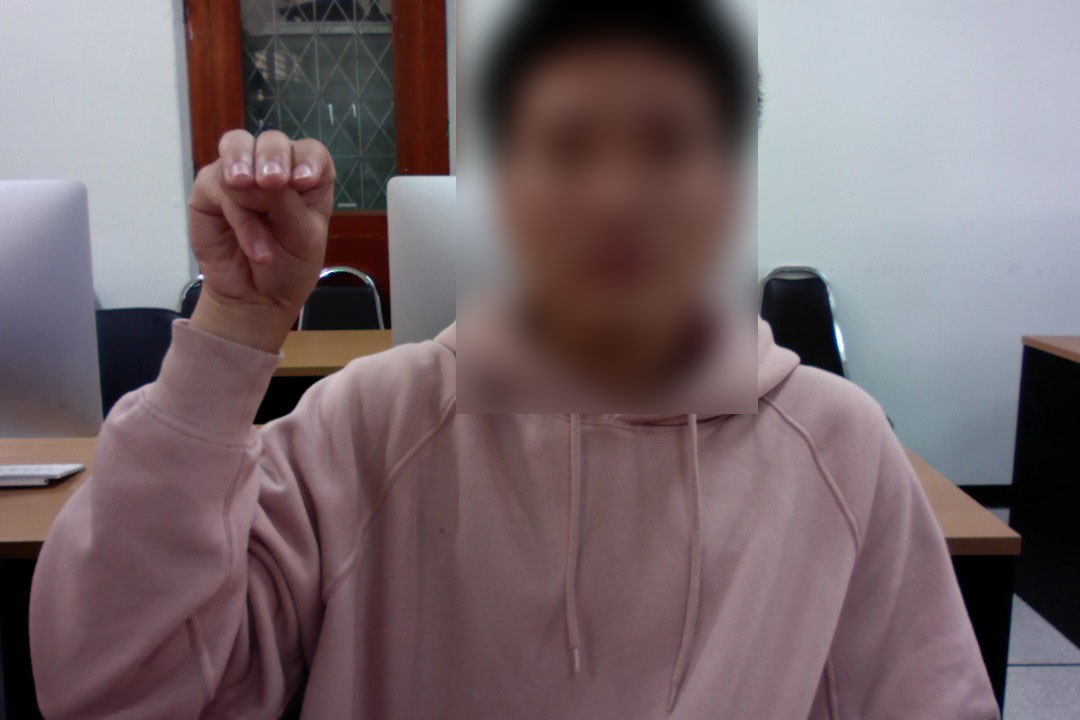mor: (180, 112, 342, 325)
